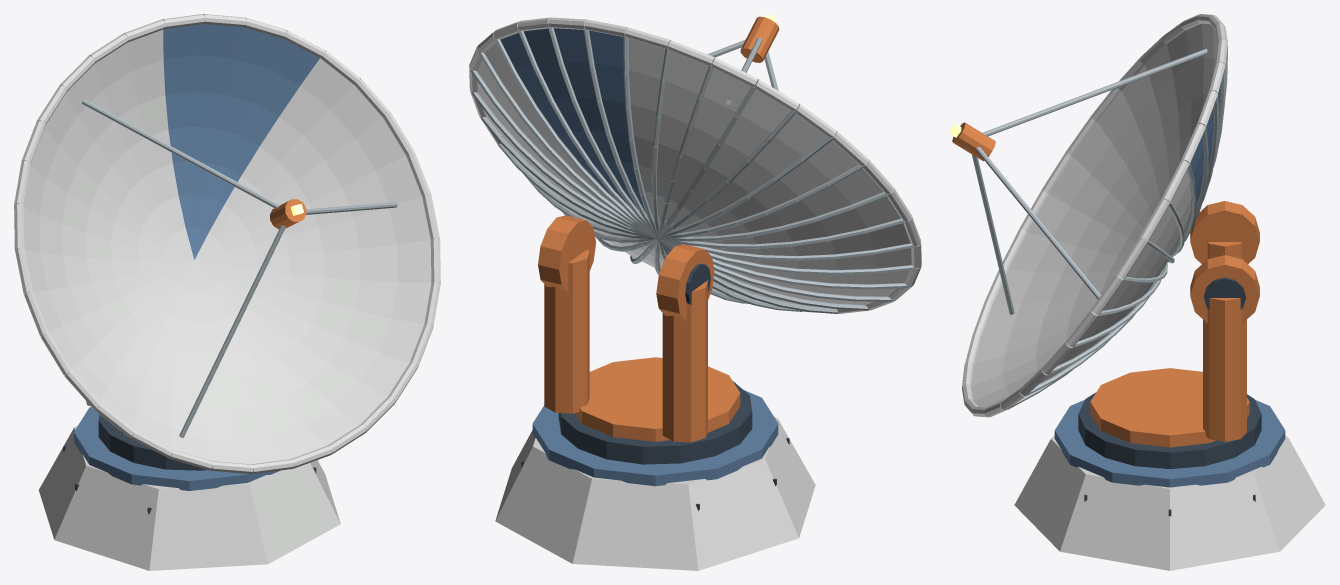
The model's file is relay_dish.glb.
The picture shows the model from 3 angles, left to right: view 1: azimuth 30°, elevation 25°; view 2: azimuth 150°, elevation 25°; view 3: azimuth 270°, elevation 25°; orthographic projection. The views are drawn at different scales.
Parts seen in each view (by area): view 1: dish_head_concrete, relay_dish_concrete, dish_head_blue, relay_dish_blue, dish_head_silver, relay_dish_dark, dish_head_orange; view 2: dish_head_concrete, dish_head_silver, relay_dish_concrete, relay_dish_orange, dish_head_blue, relay_dish_blue, relay_dish_dark, dish_head_orange; view 3: dish_head_concrete, relay_dish_concrete, relay_dish_orange, dish_head_silver, relay_dish_blue, relay_dish_dark, dish_head_blue, dish_head_orange.
Part boxes in pixels (x1=…): dish_head_concrete: x1=14, y1=14, x2=440, y2=473; relay_dish_concrete: x1=39, y1=425, x2=340, y2=570; dish_head_blue: x1=163, y1=24, x2=319, y2=259; relay_dish_blue: x1=74, y1=407, x2=279, y2=490; dish_head_silver: x1=41, y1=99, x2=397, y2=437; relay_dish_dark: x1=63, y1=414, x2=316, y2=514; dish_head_orange: x1=270, y1=199, x2=306, y2=229; dish_head_concrete: x1=469, y1=17, x2=921, y2=313; dish_head_silver: x1=471, y1=26, x2=915, y2=313; relay_dish_concrete: x1=495, y1=416, x2=815, y2=570; relay_dish_orange: x1=538, y1=215, x2=740, y2=442; dish_head_blue: x1=500, y1=28, x2=646, y2=213; relay_dish_blue: x1=532, y1=390, x2=778, y2=486; relay_dish_dark: x1=521, y1=263, x2=789, y2=510; dish_head_orange: x1=740, y1=16, x2=779, y2=62; dish_head_concrete: x1=962, y1=14, x2=1227, y2=417; relay_dish_concrete: x1=1014, y1=435, x2=1325, y2=570; relay_dish_orange: x1=1090, y1=201, x2=1259, y2=447; dish_head_silver: x1=972, y1=45, x2=1227, y2=409; relay_dish_blue: x1=1054, y1=400, x2=1285, y2=487; relay_dish_dark: x1=1078, y1=277, x2=1261, y2=516; dish_head_blue: x1=1188, y1=85, x2=1220, y2=224; dish_head_orange: x1=952, y1=122, x2=995, y2=161.
Bounding box in the file's own units: 51.09 × 56.12 × 41.
